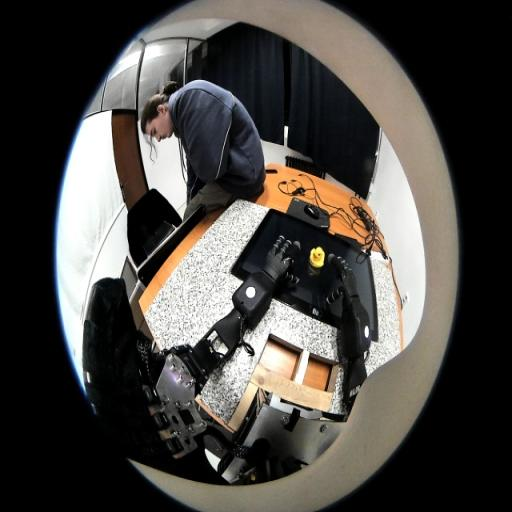Duck: (309, 246, 325, 268)
LeftHand: (266, 253, 287, 272)
RightHand: (342, 274, 356, 290)
